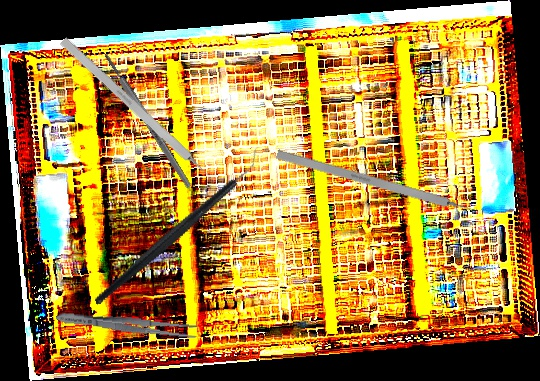Chopper: (64, 147, 290, 305)
Dressing Forceps: (55, 308, 198, 341)
Hook Surgical: (59, 36, 221, 188), (275, 149, 489, 219)
Scalpel Handle: (101, 51, 194, 191)
